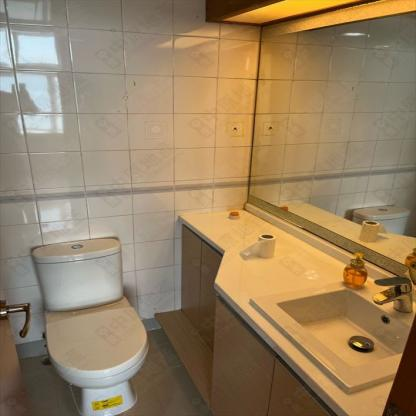Faucet: (369, 274, 411, 313)
Toilet: (31, 237, 150, 414)
Toilet Sink: (248, 279, 411, 393)
